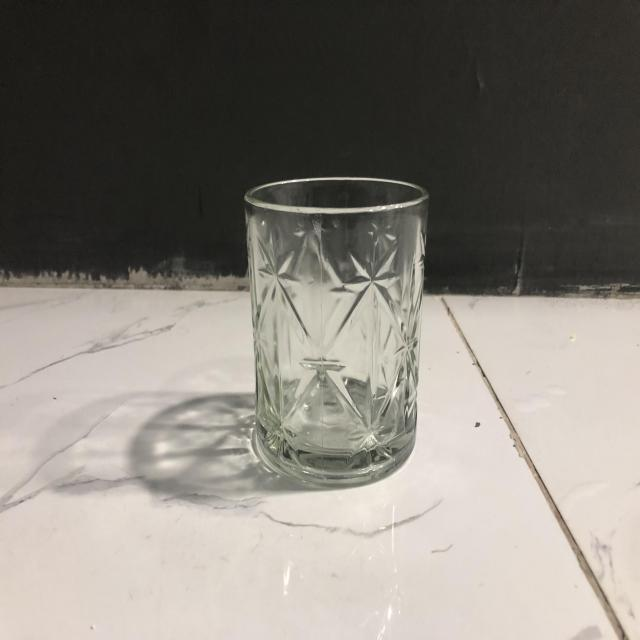glass-normal: (245, 173, 428, 493)
